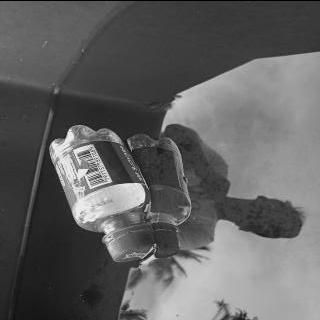bottle: (48, 122, 158, 264)
